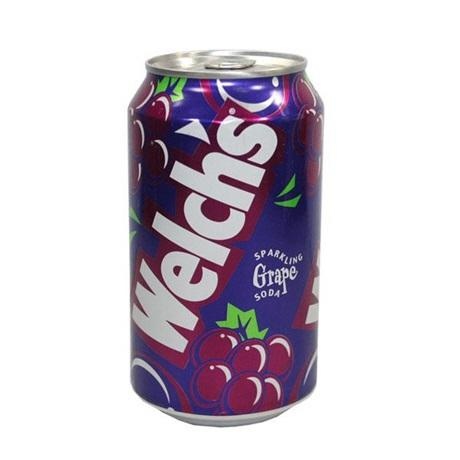welchs_grape: (121, 42, 332, 430)
